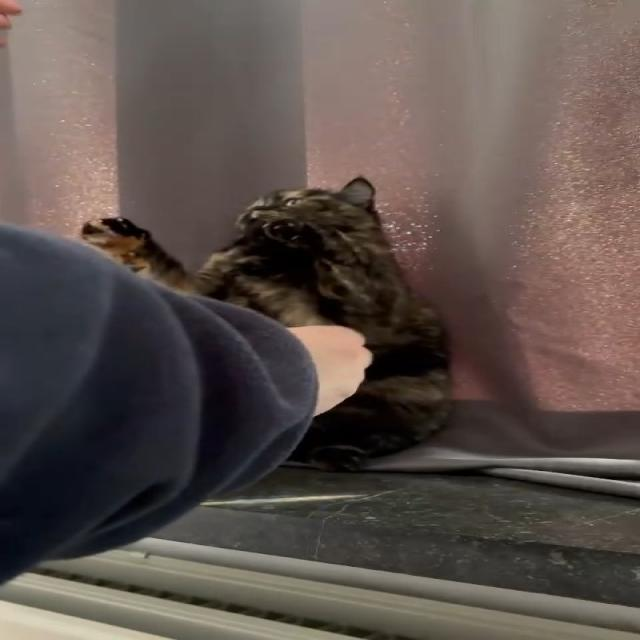authorized: (78, 175, 454, 472)
